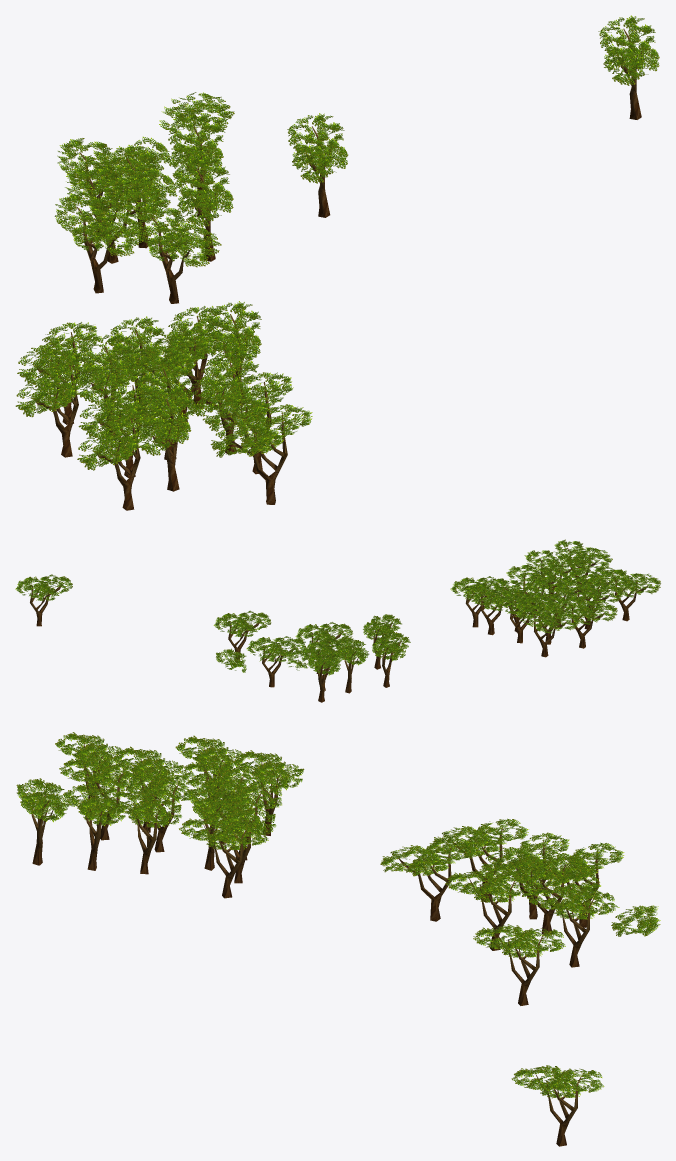
The model's file is arbolGrande_meta_all_one_LowPoly.fbx.
3 views of the same model, one above another, from view 1: azimuth 30°, elevation 25°; view 2: azimuth 150°, elevation 25°; view 3: azimuth 270°, elevation 25° (orthographic). The views are drawn at different scales.
Visible parts, largest first — view 1: arbol_meta_all_grande_LowPoly; view 2: arbol_meta_all_grande_LowPoly; view 3: arbol_meta_all_grande_LowPoly.
Boxes of the visible parts, x1=… form: arbol_meta_all_grande_LowPoly: x1=15, y1=15, x2=659, y2=510; arbol_meta_all_grande_LowPoly: x1=15, y1=539, x2=660, y2=702; arbol_meta_all_grande_LowPoly: x1=16, y1=732, x2=660, y2=1146.
Size of the model in its own units: 3.85 by 0.383 by 2.9.
Materials: 2 (2 with a texture image).
